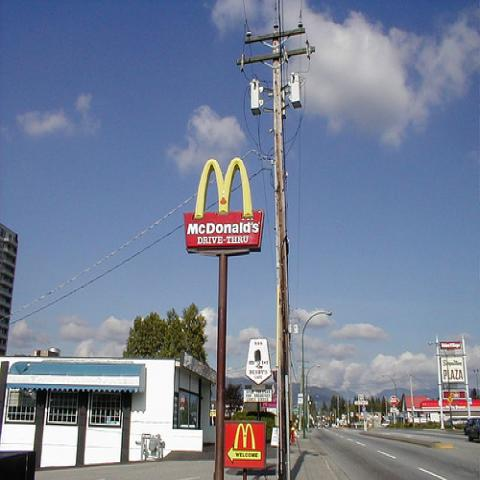car: (464, 416, 478, 442)
